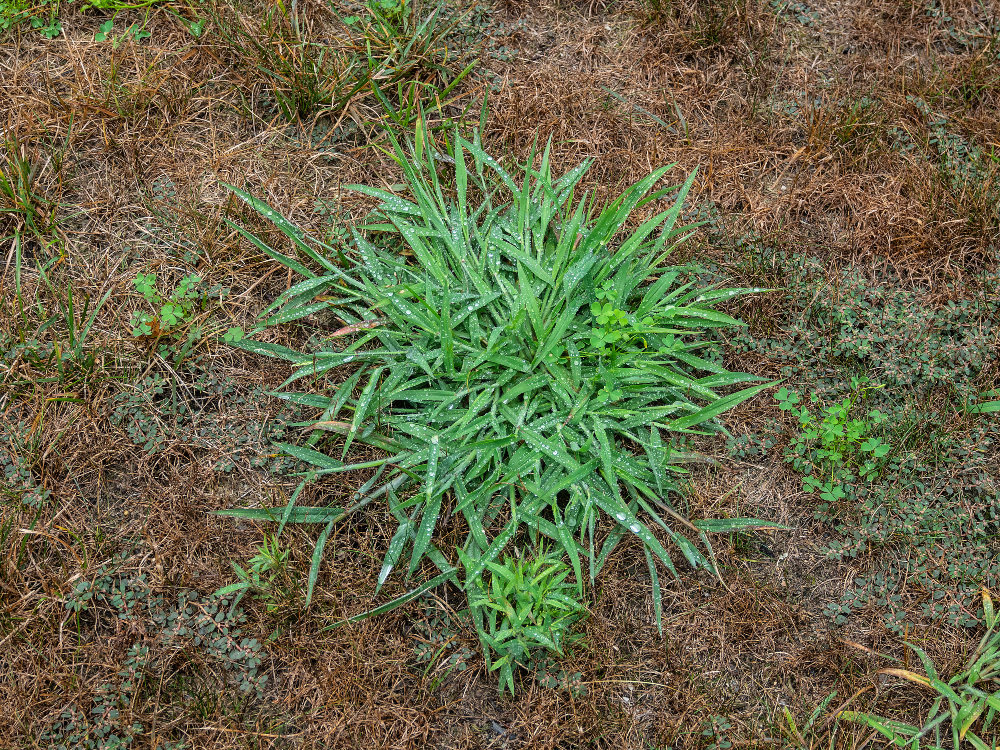crabgrass: (234, 165, 739, 563)
